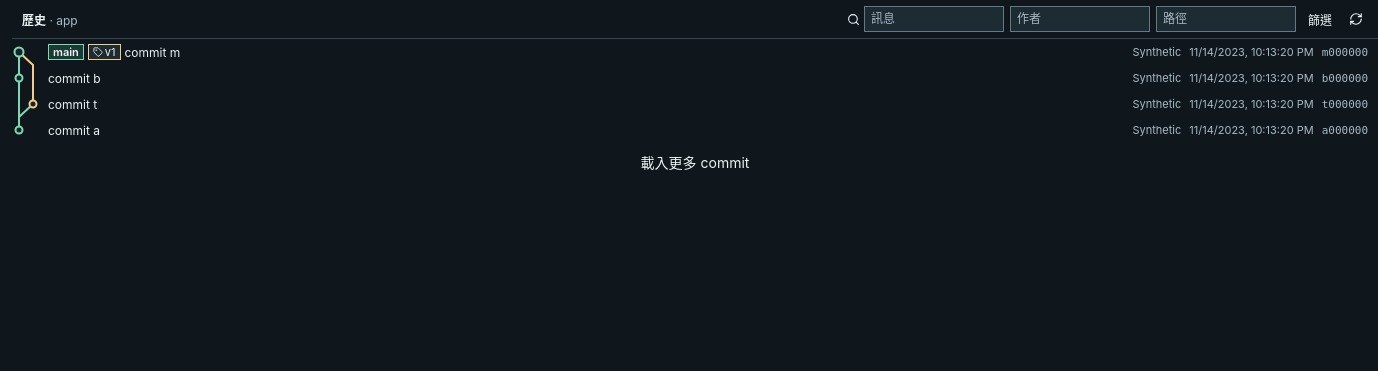
Test: graph view › shows labels, pages more, filters as a list and opens merge parents explicitly
Expected: the text "commit m" is shown, [124,44,180,60]
Expected: the text titled "本機 branch（目前 HEAD）" reads "main", [53,45,79,59]
Click the button "載入更多 commit": (695, 162) [635,151,755,173]
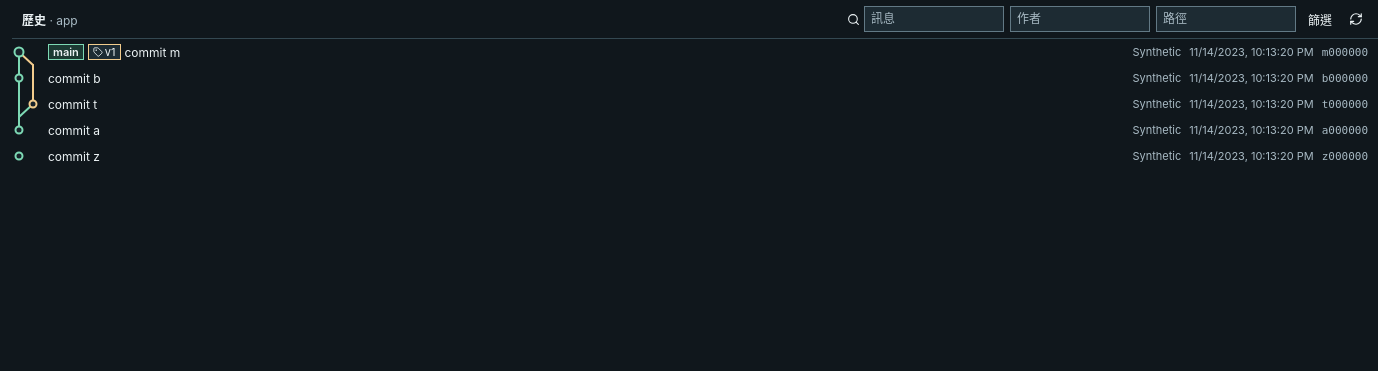
Result: the text "commit z" is shown at [48,148,100,164]
Click the option "main v1 commit m Synthetic 11/14/2023, 10:13:20 PM m000000": (66, 52) [12,39,1377,65]
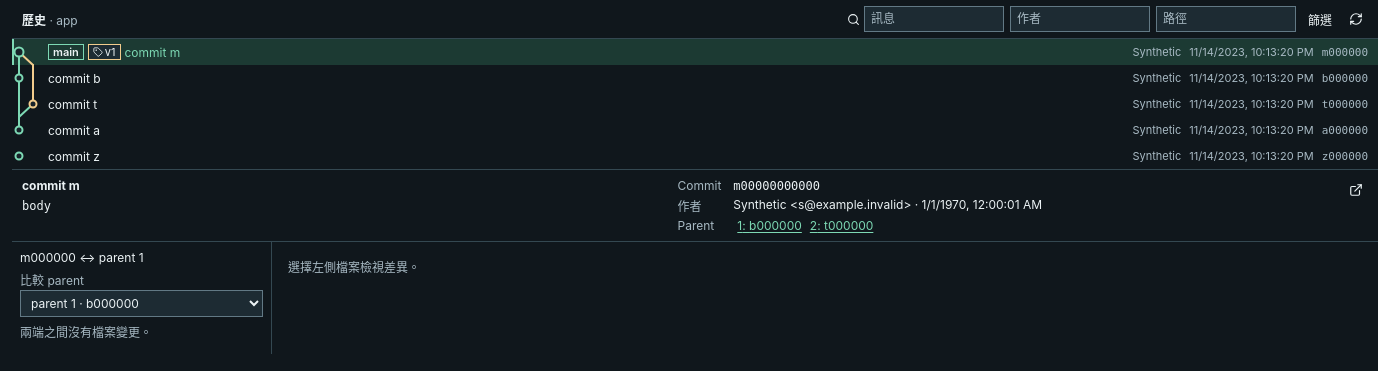
Result: the dropdown labelled "比較 parent" shows "parent 1 · b000000" at [20,290,263,317]
In the field named "作者篩選": (1080, 19) [1010,6,1150,32], type "syn"
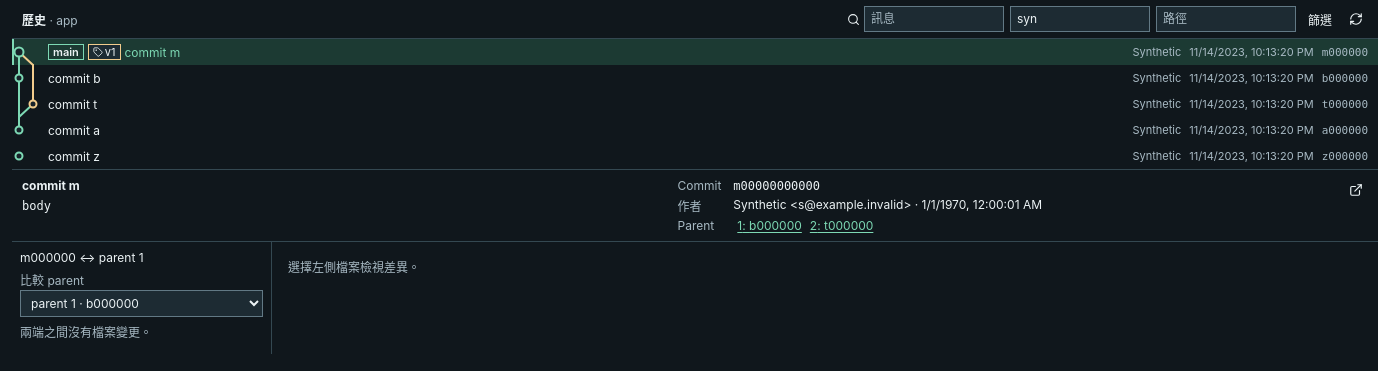
Click the button "篩選": (1320, 19) [1302,10,1338,28]
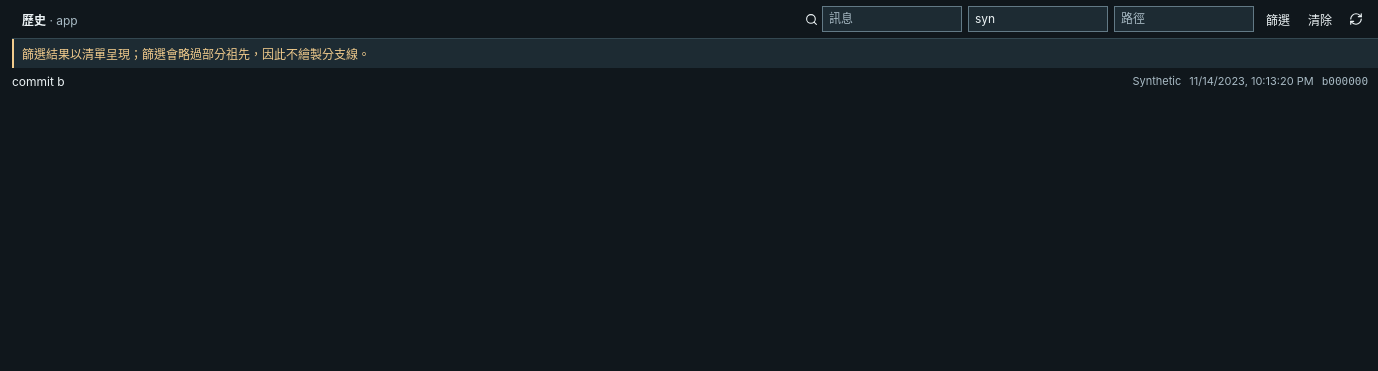
Result: the text "篩選結果以清單呈現；篩選會略過部分祖先，因此不繪製分支線。" is shown at [12,39,1377,68]
Result: no icons with class "git-graph-cell" are shown
